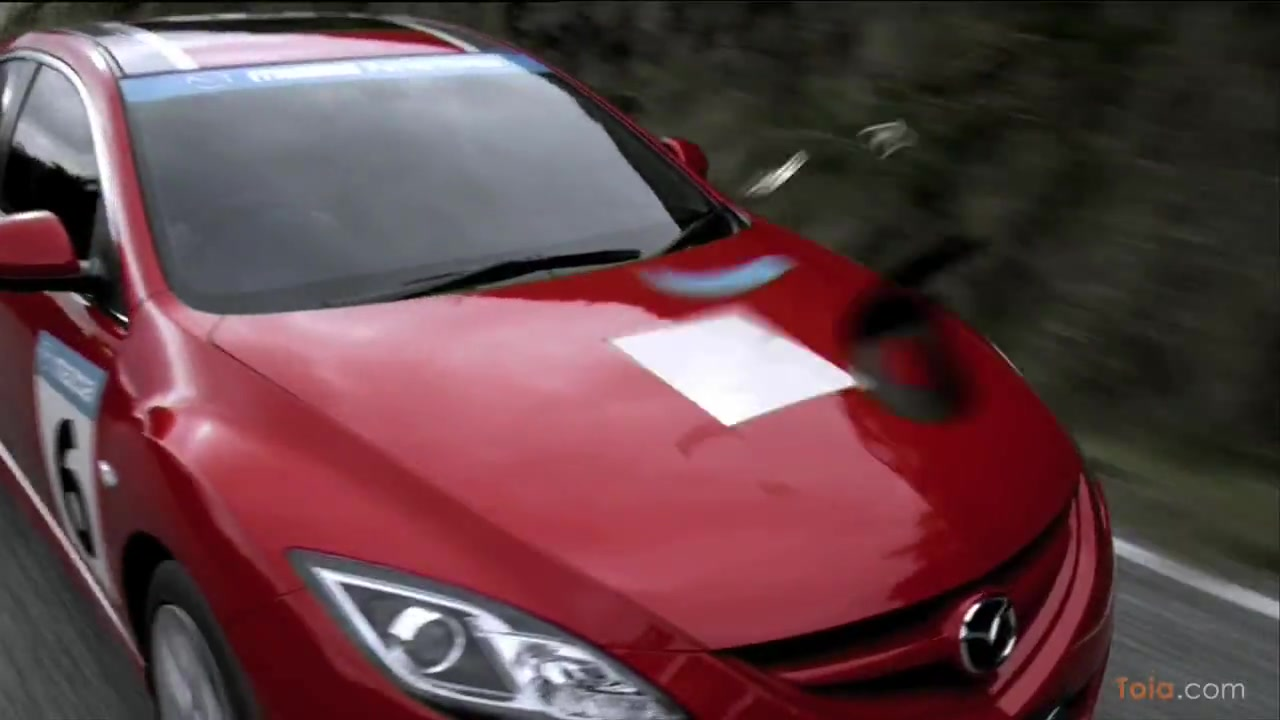car: (1, 9, 1120, 720)
